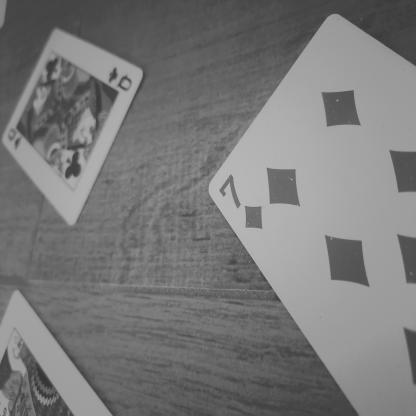7D: (203, 173, 269, 240)
QC: (99, 57, 138, 98)
